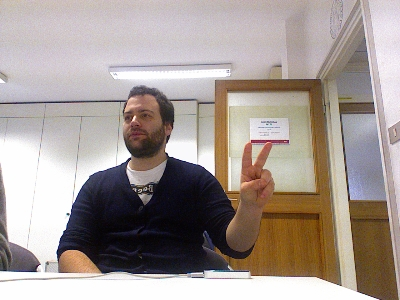剪刀: (239, 141, 274, 208)
